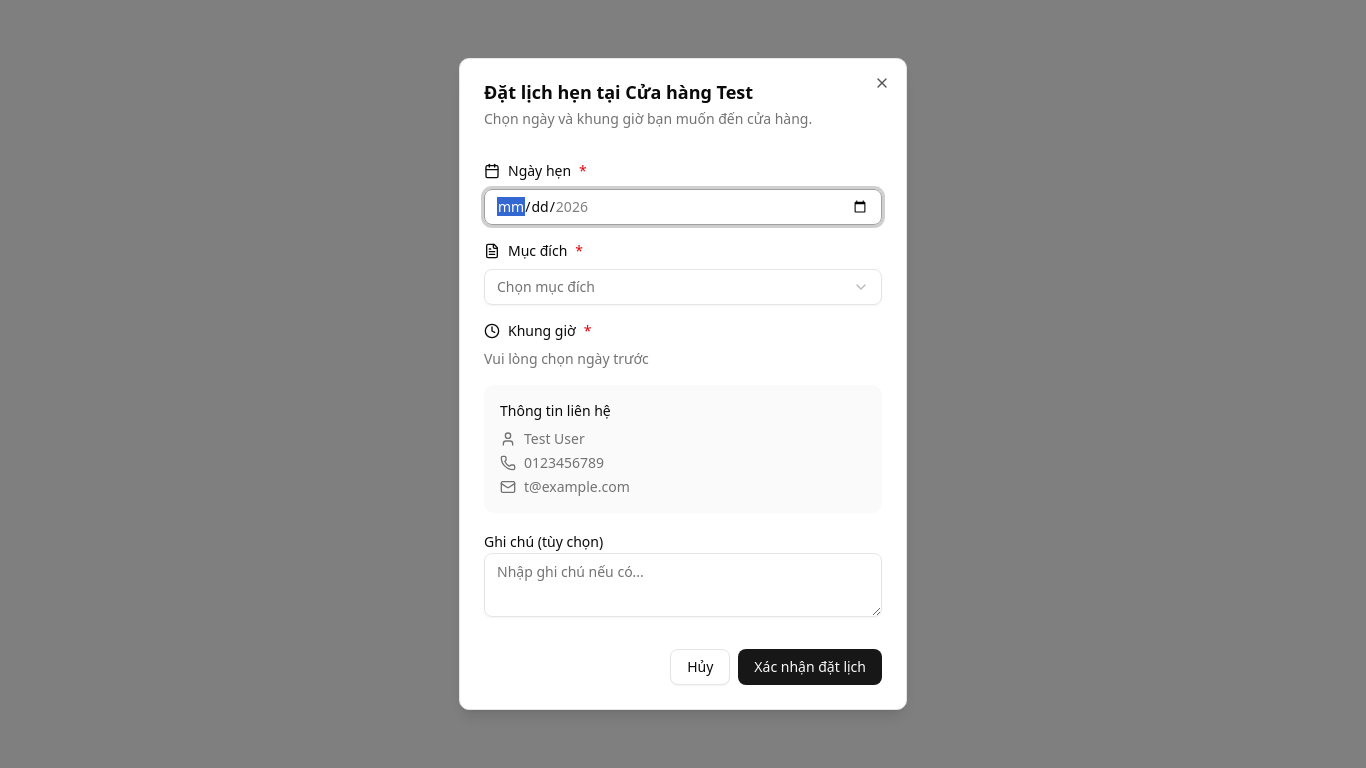
Slot region live semantics (M11, M12) › announces the loaded slot count through the persistent status region
This screenshot has width=1366, height=768.
Step 1. Type "2099-12-25" into the date field labelled "Ngày hẹn *" → (683, 207), box x1=484 y1=189 x2=882 y2=225
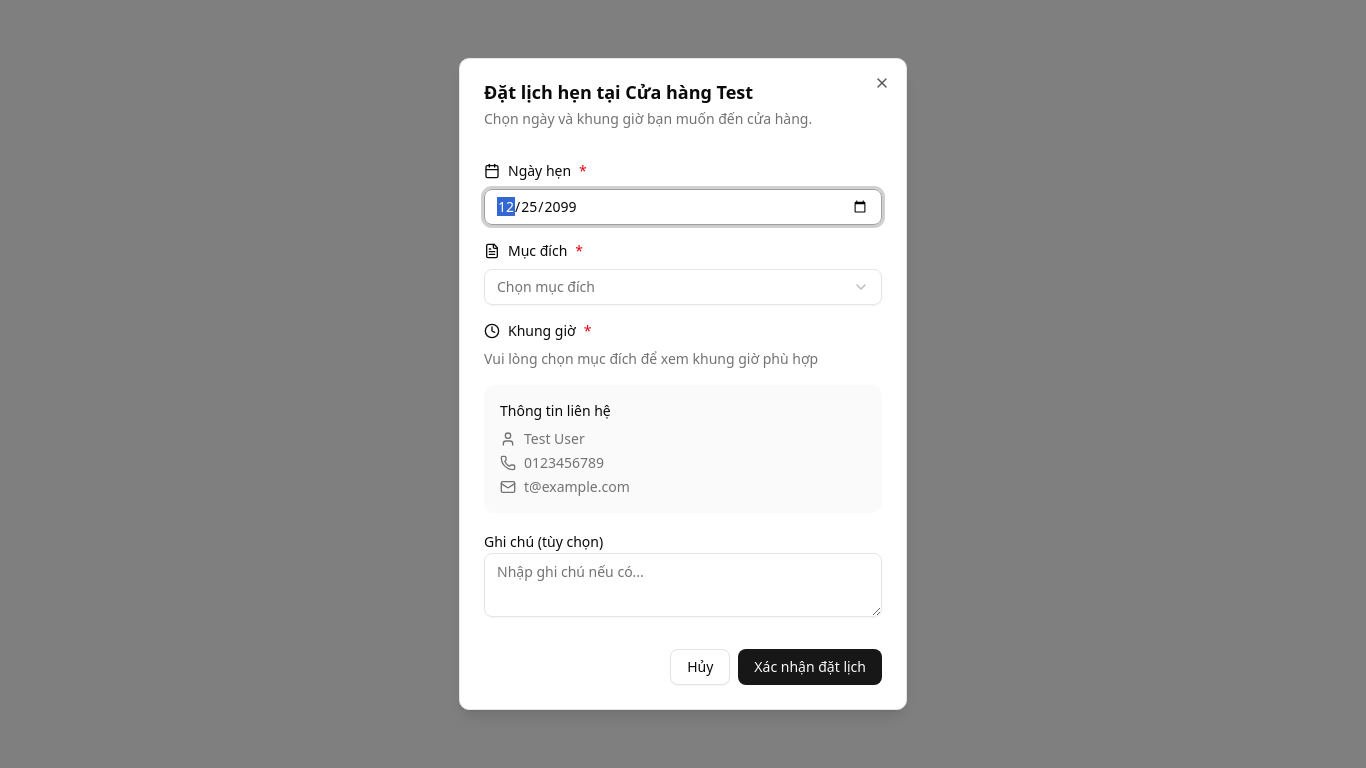
Step 2. Click the dropdown → (546, 286), box x1=484 y1=269 x2=882 y2=305
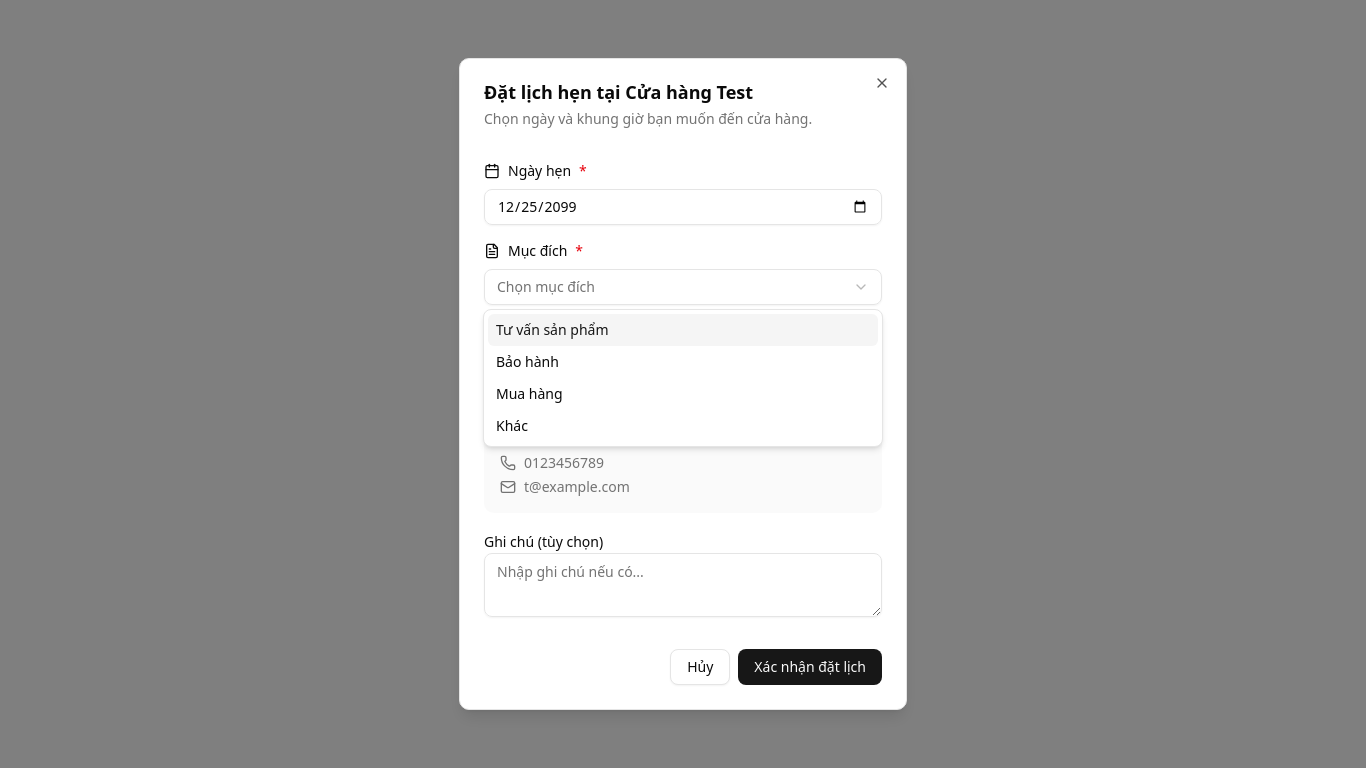
Step 3. Click the option "Tư vấn sản phẩm" → (552, 330), box x1=488 y1=314 x2=878 y2=346
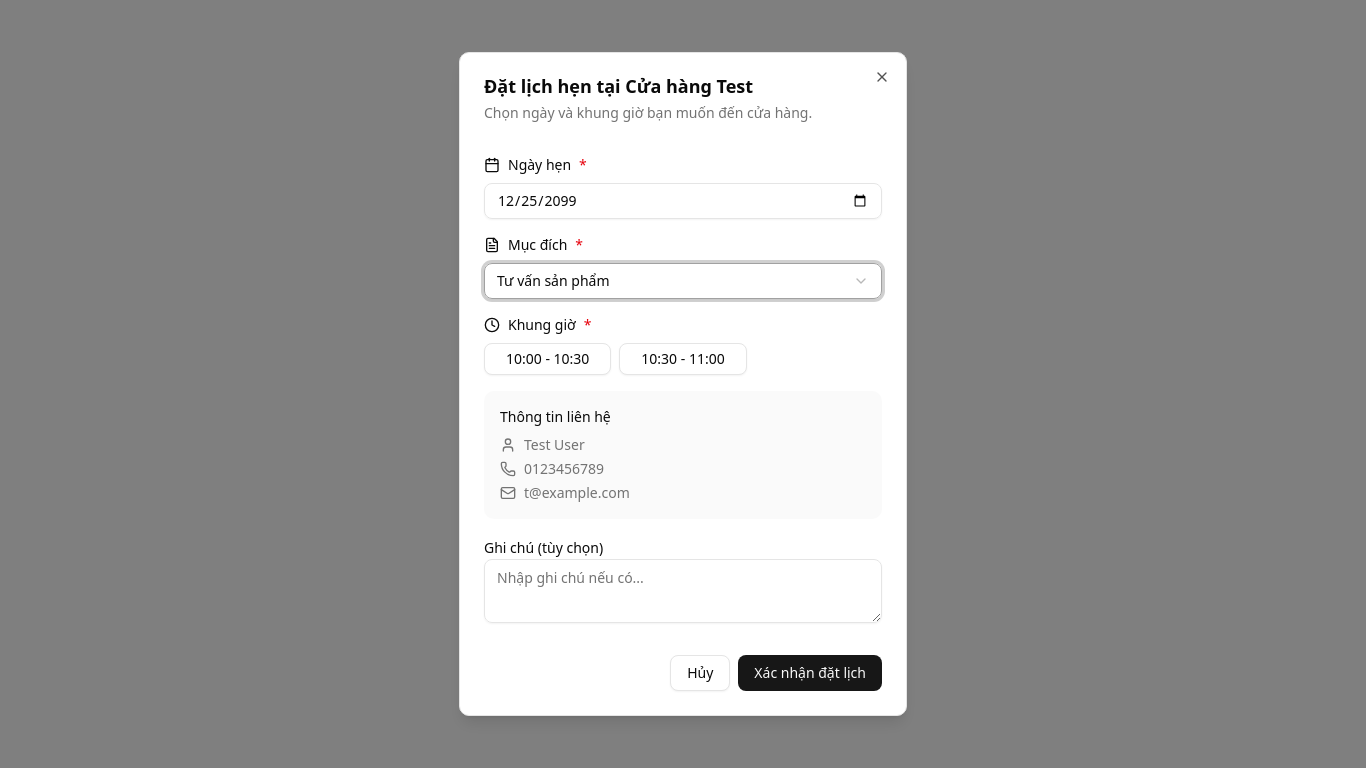
Check: the button "10:00 - 10:30" is shown, box x1=484 y1=343 x2=611 y2=375
